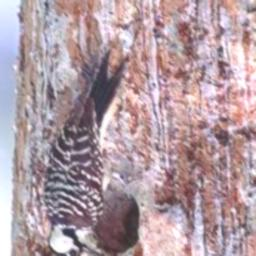Woodpecker: (44, 51, 126, 256)
